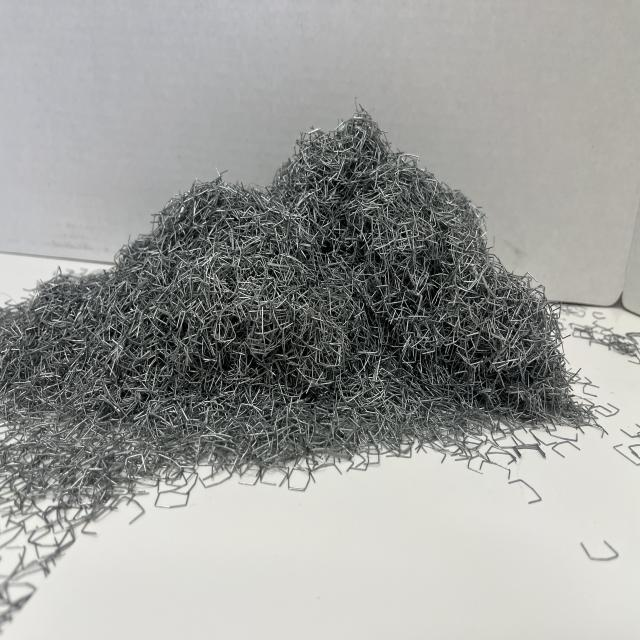staples: (2, 98, 606, 628)
